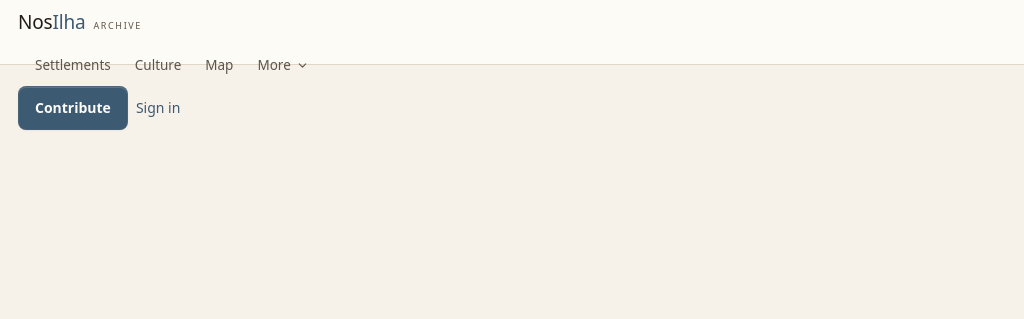
Test case: LanguageSwitcher › in the site bars › is in the tablet bar's More panel
What coordinates should you click on to do the following:
click the button "More"
I would click on:
 (283, 65)
Its box is [246, 44, 320, 86].
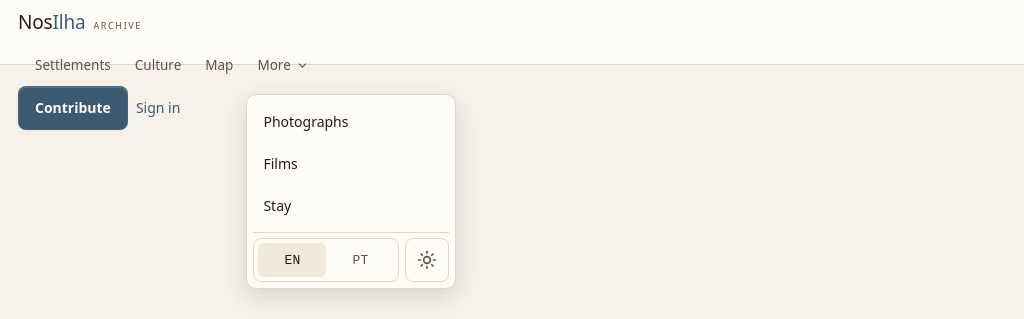
Expected: the link with aria-label "Português" is shown, [353, 252, 368, 268]
